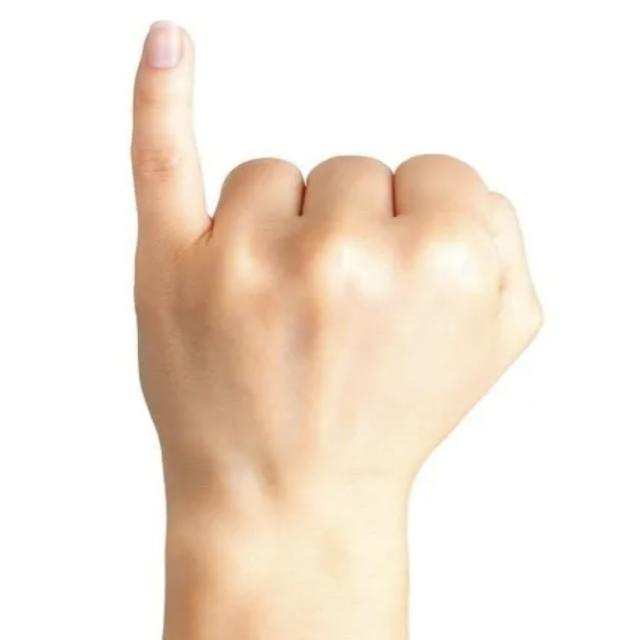pinky: (119, 10, 215, 255)
